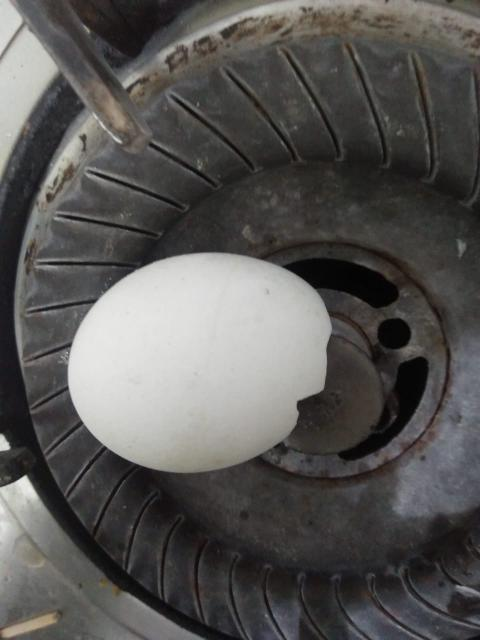Roto: (66, 250, 332, 474)
